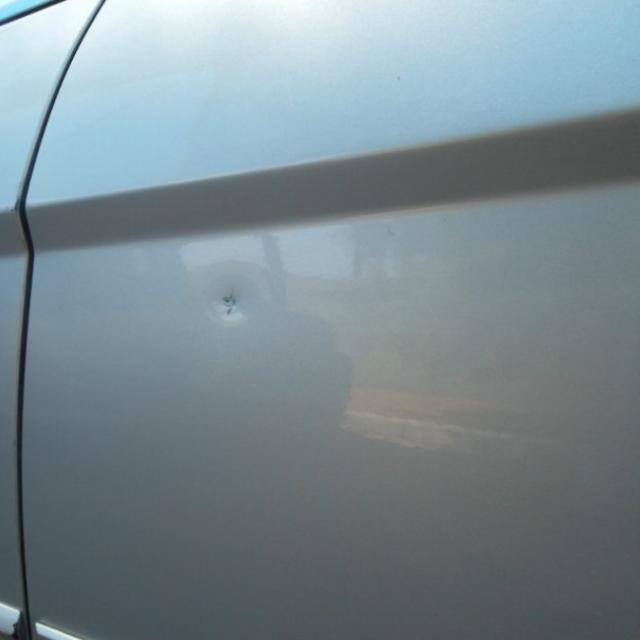dents: (210, 271, 278, 359)
